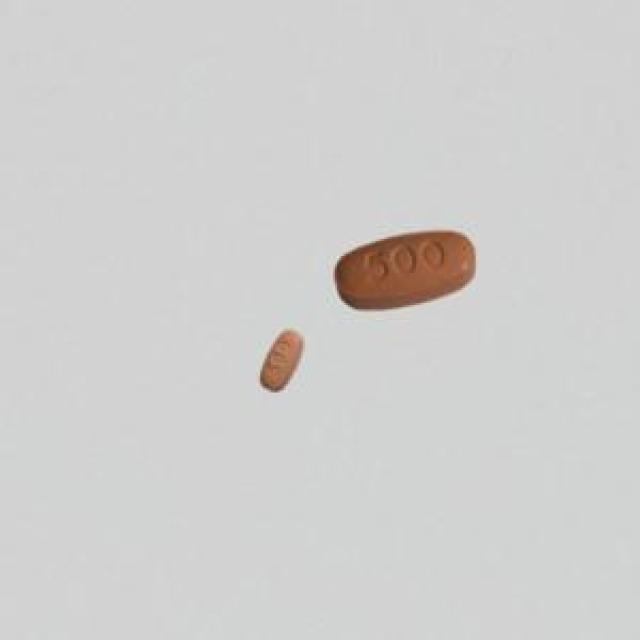Biogesic: (321, 206, 486, 314), (253, 318, 311, 399)
